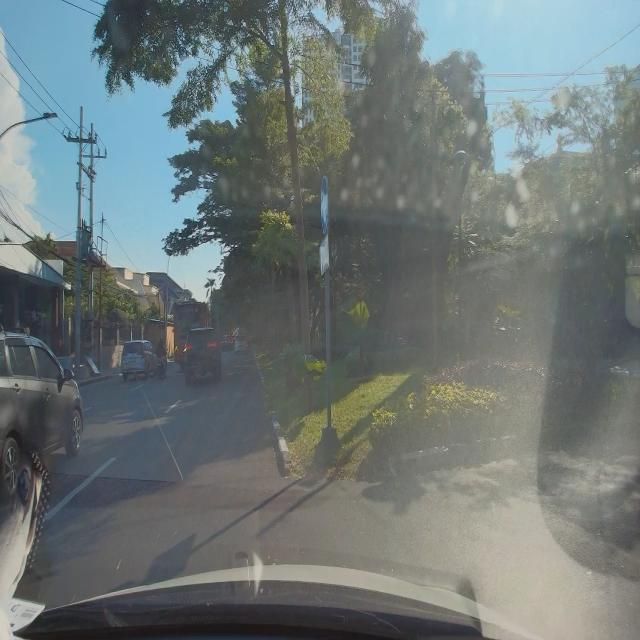car: (120, 336, 158, 381)
